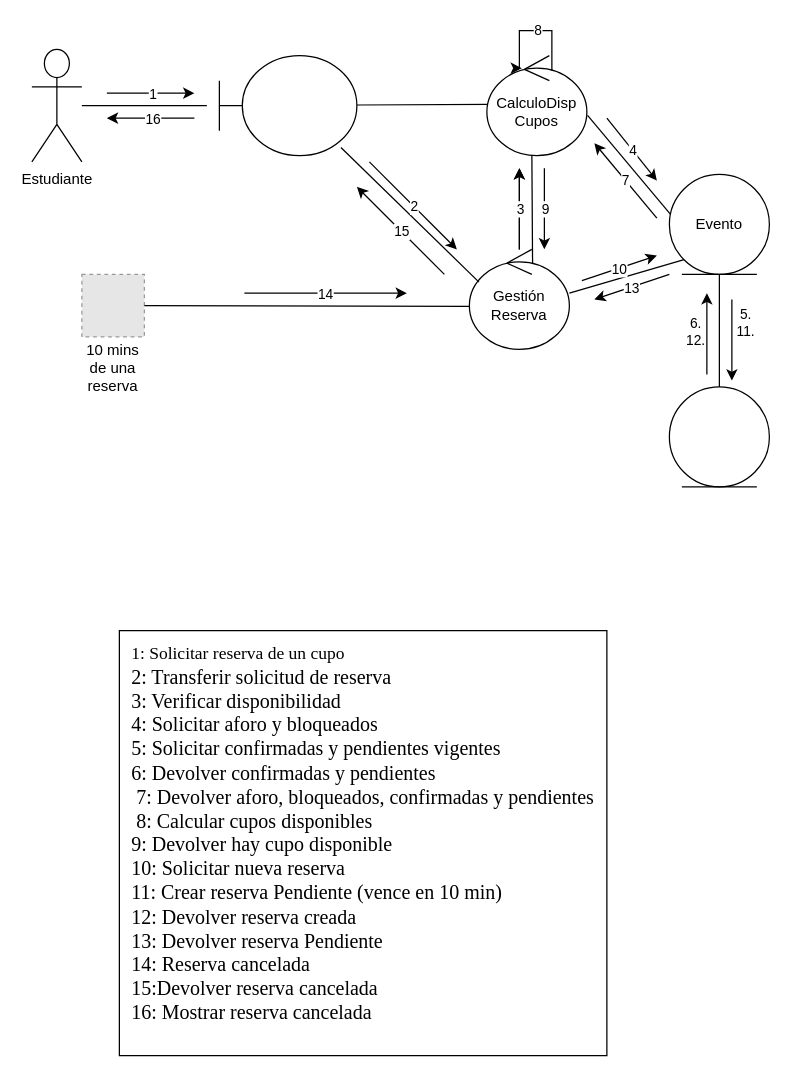
The diagram is 791 pixels wide and 1078 high, and some of its shapes have lost their labels. Grey dashed boxes stand in for pictures. The shapes that lost their labels are listed below. From the top down, each one's centre as x and y in pixels, then its label:
At (287,105): "PantallaEvento".
At (718,436): "Reserva".
